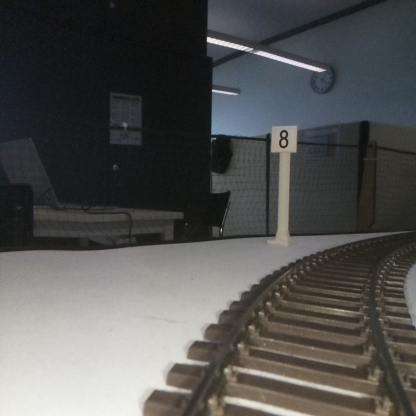white-info-8: (271, 126, 296, 244)
